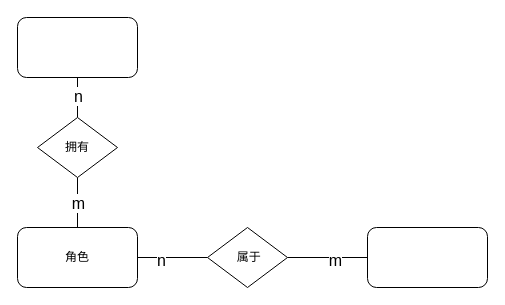
Image size: 505x305. Some labels were removed from this diagram. The centre of each missing label's shape, as x and y in pixels:
权限: the point at 427,257
用户: the point at 77,47
